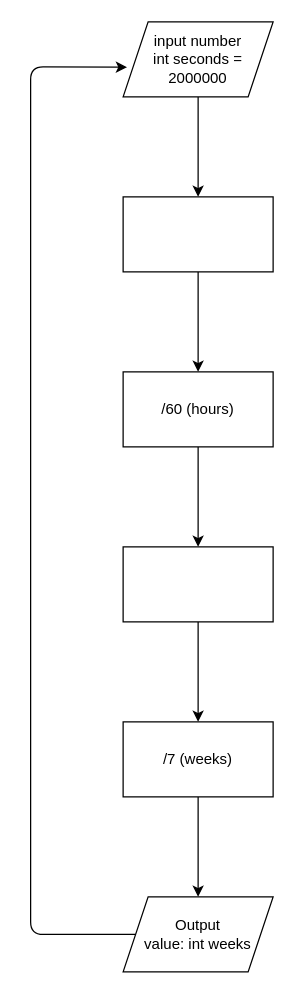
Some shapes in this 295 by 994 pixel diagram are drawn without their labels. Here are the shapes that lost their labels. From the top down, the centre of each, then its label:
At (197,234): "/ 60 (min)".
At (197,584): "/24 (days)".
